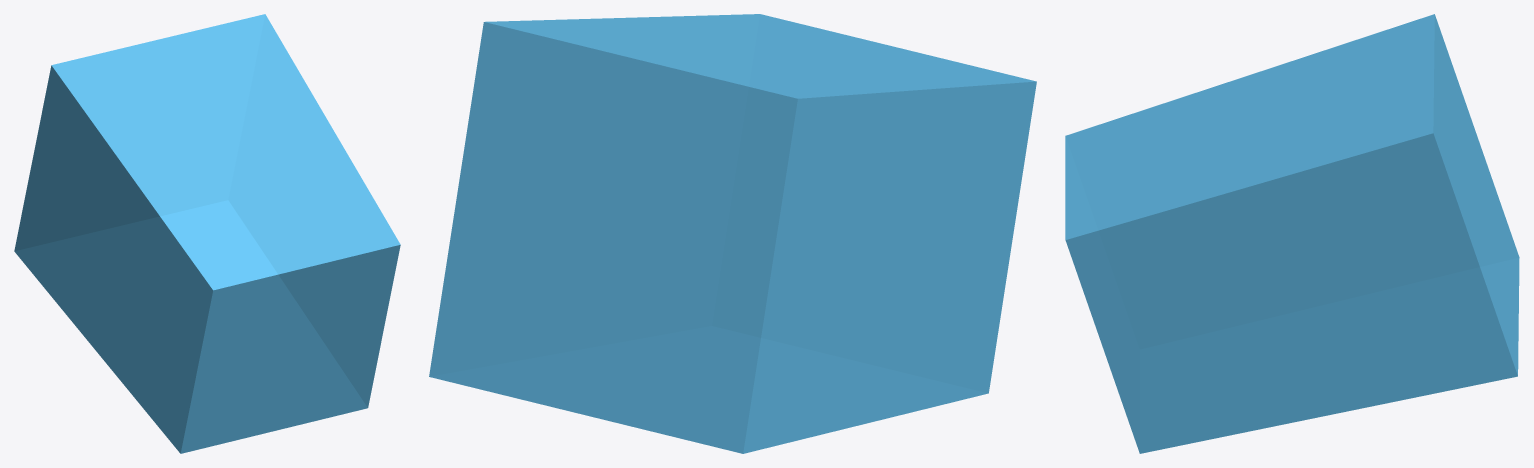
The model's file is Event_420107950_HBrechit_13.fbx.
The picture shows the model from 3 angles, left to right: view 1: azimuth 30°, elevation 25°; view 2: azimuth 150°, elevation 25°; view 3: azimuth 270°, elevation 25°; orthographic projection. The views are drawn at different scales.
Visible parts, largest first — view 1: Model; view 2: Model; view 3: Model.
Part boxes in pixels (bbox=[...]): Model: bbox=[14, 14, 400, 453]; Model: bbox=[429, 14, 1036, 453]; Model: bbox=[1065, 14, 1519, 453].
Size of the model in its own units: 0.4565 by 0.6014 by 0.7373.
